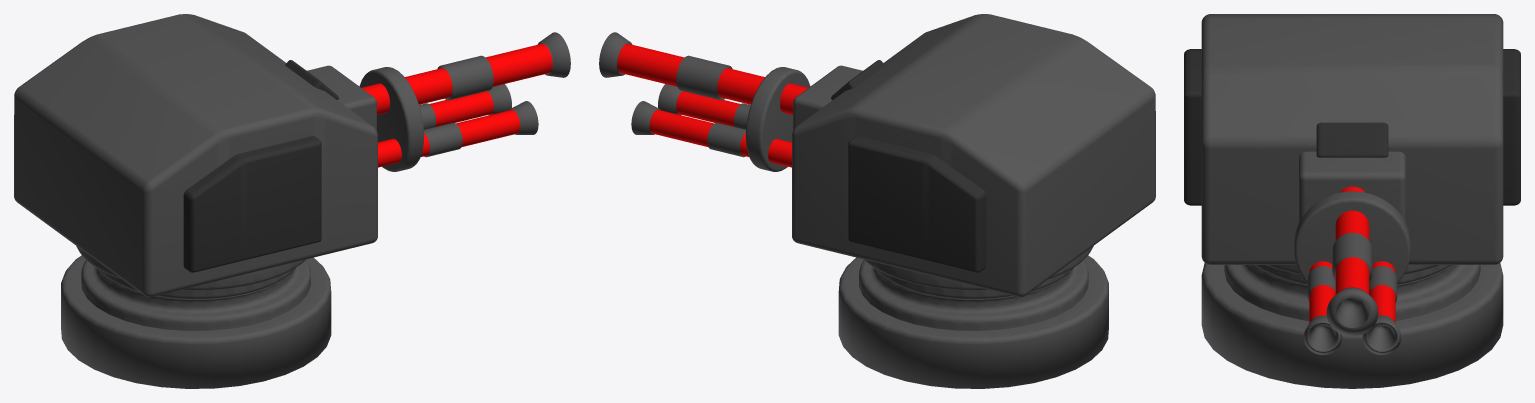
The model's file is Turret1.fbx.
3 renders of one model, left to right at view 1: azimuth 30°, elevation 25°; view 2: azimuth 150°, elevation 25°; view 3: azimuth 270°, elevation 25°, orthographic. The views are drawn at different scales.
Parts seen in each view (by area): view 1: Cube, Base, Cube.002, Cylinder.001, Cylinder.002, Cylinder, Cylinder.003, Cube.001, Cube.003; view 2: Cube, Base, Cube.002, Cylinder.001, Cylinder.003, Cylinder, Cylinder.002, Cube.001, Cube.003; view 3: Cube, Base, Cylinder, Cube.002, Cylinder.001, Cube.001, Cube.003, Cylinder.002, Cylinder.003.
Boxes of the visible parts, <box> form: Cube: <box>14,14,377,297</box>; Base: <box>61,246,331,388</box>; Cube.002: <box>183,136,321,272</box>; Cylinder.001: <box>361,32,570,114</box>; Cylinder.002: <box>378,101,538,167</box>; Cylinder: <box>359,67,423,171</box>; Cylinder.003: <box>419,84,511,129</box>; Cube.001: <box>307,65,376,130</box>; Cube.003: <box>285,60,338,99</box>; Cube: <box>792,14,1155,297</box>; Base: <box>838,246,1108,388</box>; Cube.002: <box>848,136,986,272</box>; Cylinder.001: <box>599,32,808,114</box>; Cylinder.003: <box>631,101,791,167</box>; Cylinder: <box>746,67,810,171</box>; Cylinder.002: <box>658,84,750,129</box>; Cube.001: <box>793,65,862,130</box>; Cube.003: <box>831,60,884,99</box>; Cube: <box>1201,14,1503,264</box>; Base: <box>1201,263,1503,388</box>; Cylinder: <box>1294,191,1410,283</box>; Cube.002: <box>1184,49,1520,205</box>; Cylinder.001: <box>1326,186,1378,336</box>; Cube.001: <box>1299,151,1405,222</box>; Cube.003: <box>1316,122,1388,157</box>; Cylinder.002: <box>1303,261,1342,354</box>; Cylinder.003: <box>1362,261,1401,354</box>.
Bounding box in the file's own units: 410 × 211 × 223.
